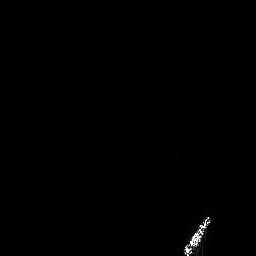ship: (178, 211, 217, 256)
